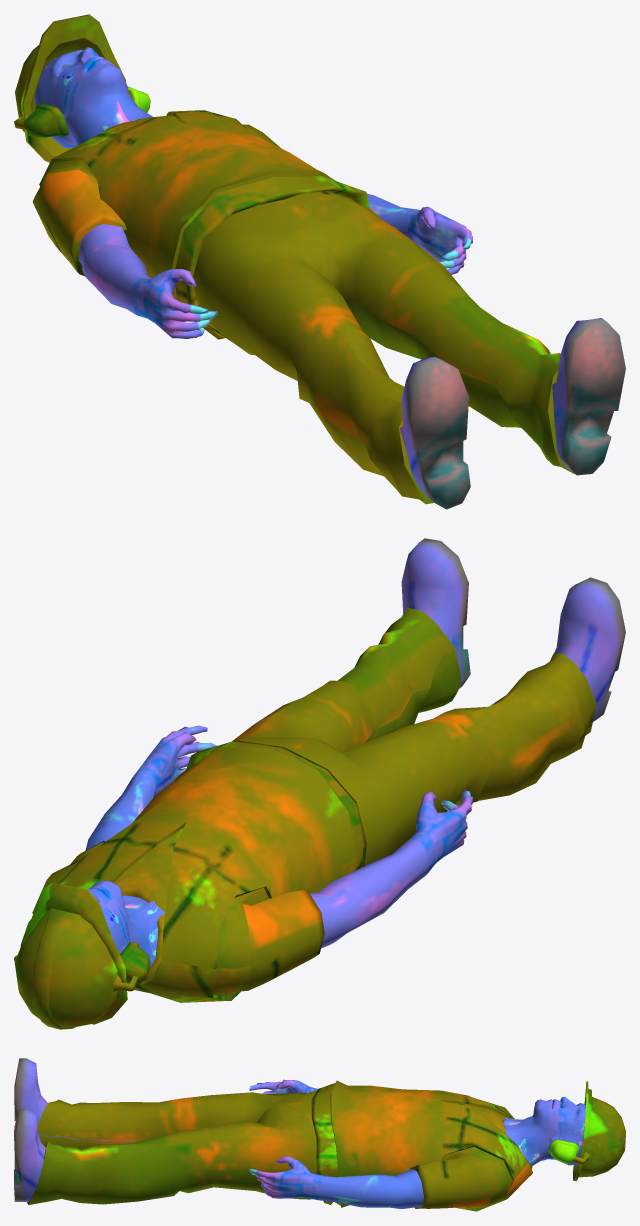
File: l4d2-common_male_roadcrew.glb
3 renders of one model, top to bottom at view 1: azimuth 30°, elevation 25°; view 2: azimuth 150°, elevation 25°; view 3: azimuth 270°, elevation 25°, orthographic. The views are drawn at different scales.
Size of the model in its own units: 27.03 by 14.35 by 73.68.
Materials: 2 (2 with a texture image).
